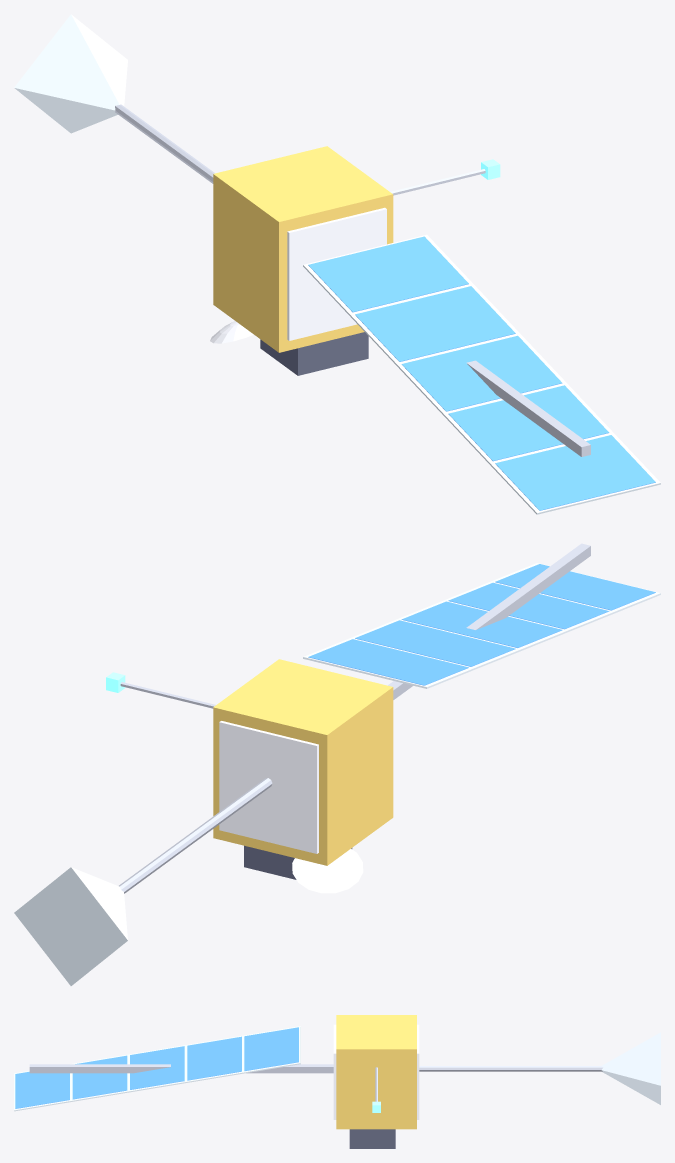
File: gk2_weather.glb
The picture shows the model from 3 angles, top to bottom: view 1: azimuth 30°, elevation 25°; view 2: azimuth 150°, elevation 25°; view 3: azimuth 270°, elevation 25°; orthographic projection. The views are drawn at different scales.
Visible parts, largest first — view 1: Spacecraft; view 2: Spacecraft; view 3: Spacecraft.
Part boxes in pixels (x1=…): Spacecraft: x1=14, y1=14, x2=660, y2=514; Spacecraft: x1=14, y1=543, x2=660, y2=985; Spacecraft: x1=14, y1=1015, x2=660, y2=1148.
Bounding box in the file's own units: 9.79 × 6.05 × 33.66.
